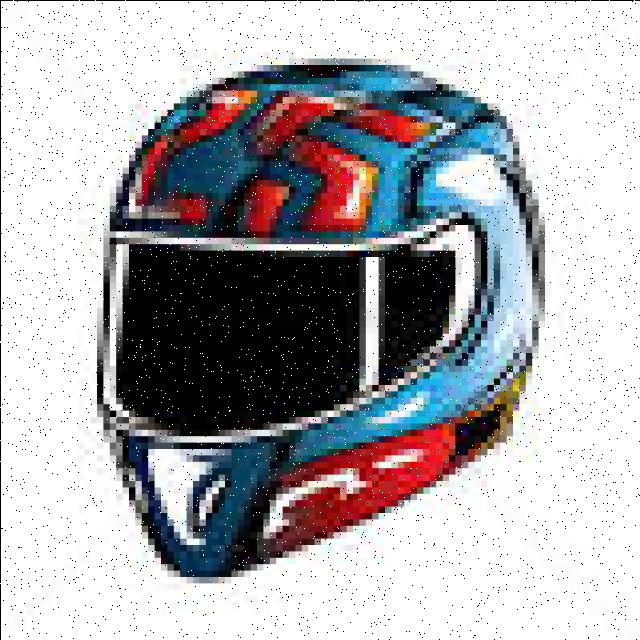Helmet: (90, 45, 562, 580)
